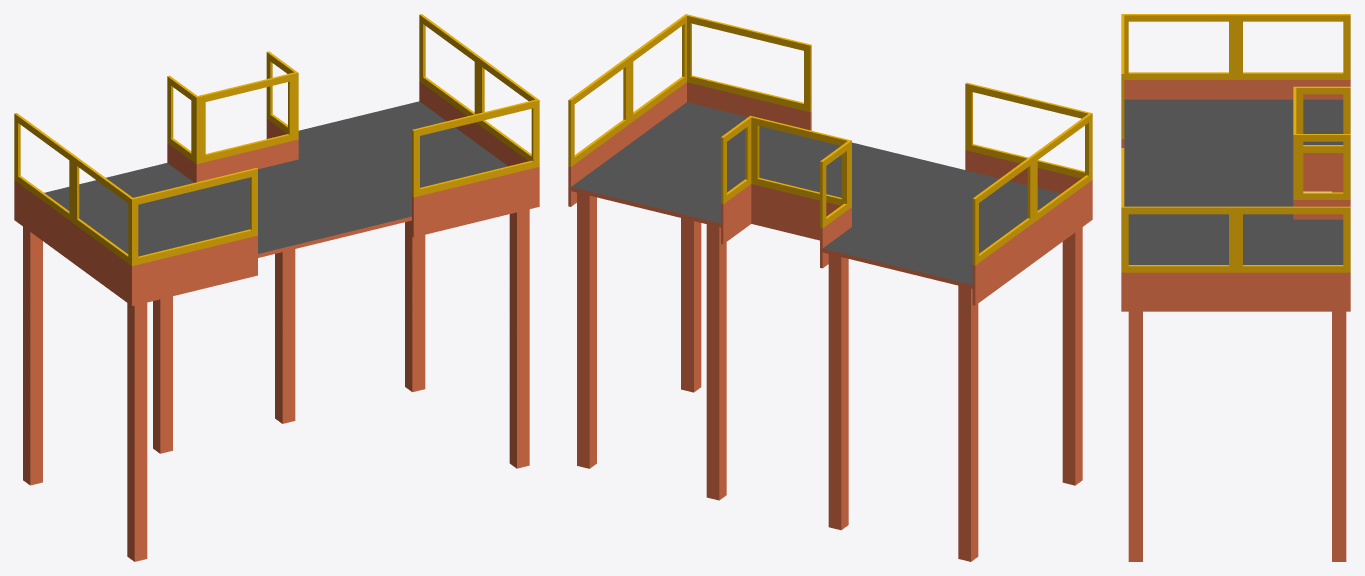
The model's file is Prop_Industrial_Platform_Walkway_Narrow_C_Joint_02.FBX.
3 views of the same model, side by side, from view 1: azimuth 30°, elevation 25°; view 2: azimuth 150°, elevation 25°; view 3: azimuth 270°, elevation 25° (orthographic). The views are drawn at different scales.
Visible parts, largest first — view 1: Prop_Industrial_Platform_Walkway_Narrow_C_Joint_02; view 2: Prop_Industrial_Platform_Walkway_Narrow_C_Joint_02; view 3: Prop_Industrial_Platform_Walkway_Narrow_C_Joint_02.
Boxes of the visible parts, left/top/right/bottom form: Prop_Industrial_Platform_Walkway_Narrow_C_Joint_02: left=14, top=14, right=539, bottom=561; Prop_Industrial_Platform_Walkway_Narrow_C_Joint_02: left=568, top=14, right=1092, bottom=561; Prop_Industrial_Platform_Walkway_Narrow_C_Joint_02: left=1121, top=14, right=1350, bottom=561.
Size of the model in its own units: 6400 by 5500 by 3200.
